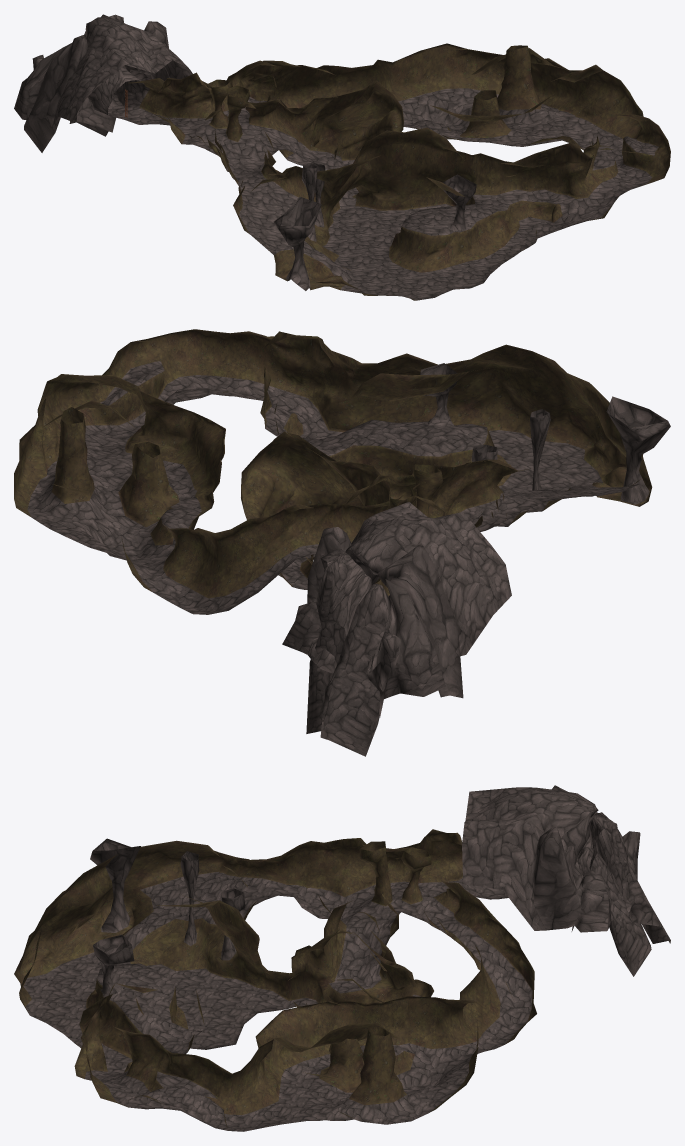
Rendered from CaveLadder.glb.
3 views of the same model, one above another, from view 1: azimuth 30°, elevation 25°; view 2: azimuth 150°, elevation 25°; view 3: azimuth 270°, elevation 25° (orthographic). The views are drawn at different scales.
Visible parts, largest first — view 1: Cave; view 2: Cave; view 3: Cave.
Boxes of the visible parts, x1,y1,x2,y2 form: Cave: (14,14,670,300); Cave: (14,329,670,756); Cave: (14,785,670,1131).
Size of what is drawn, in the model's own units: 145 by 44.4 by 156.
Materials: 3 (3 with a texture image).
